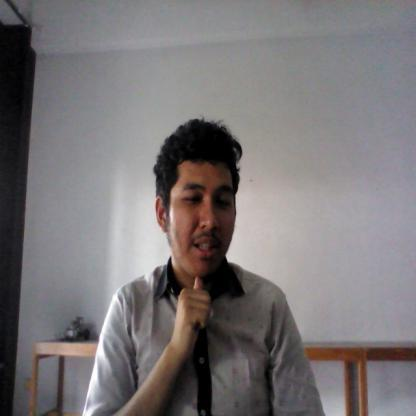Siapa: (172, 265, 216, 368)
